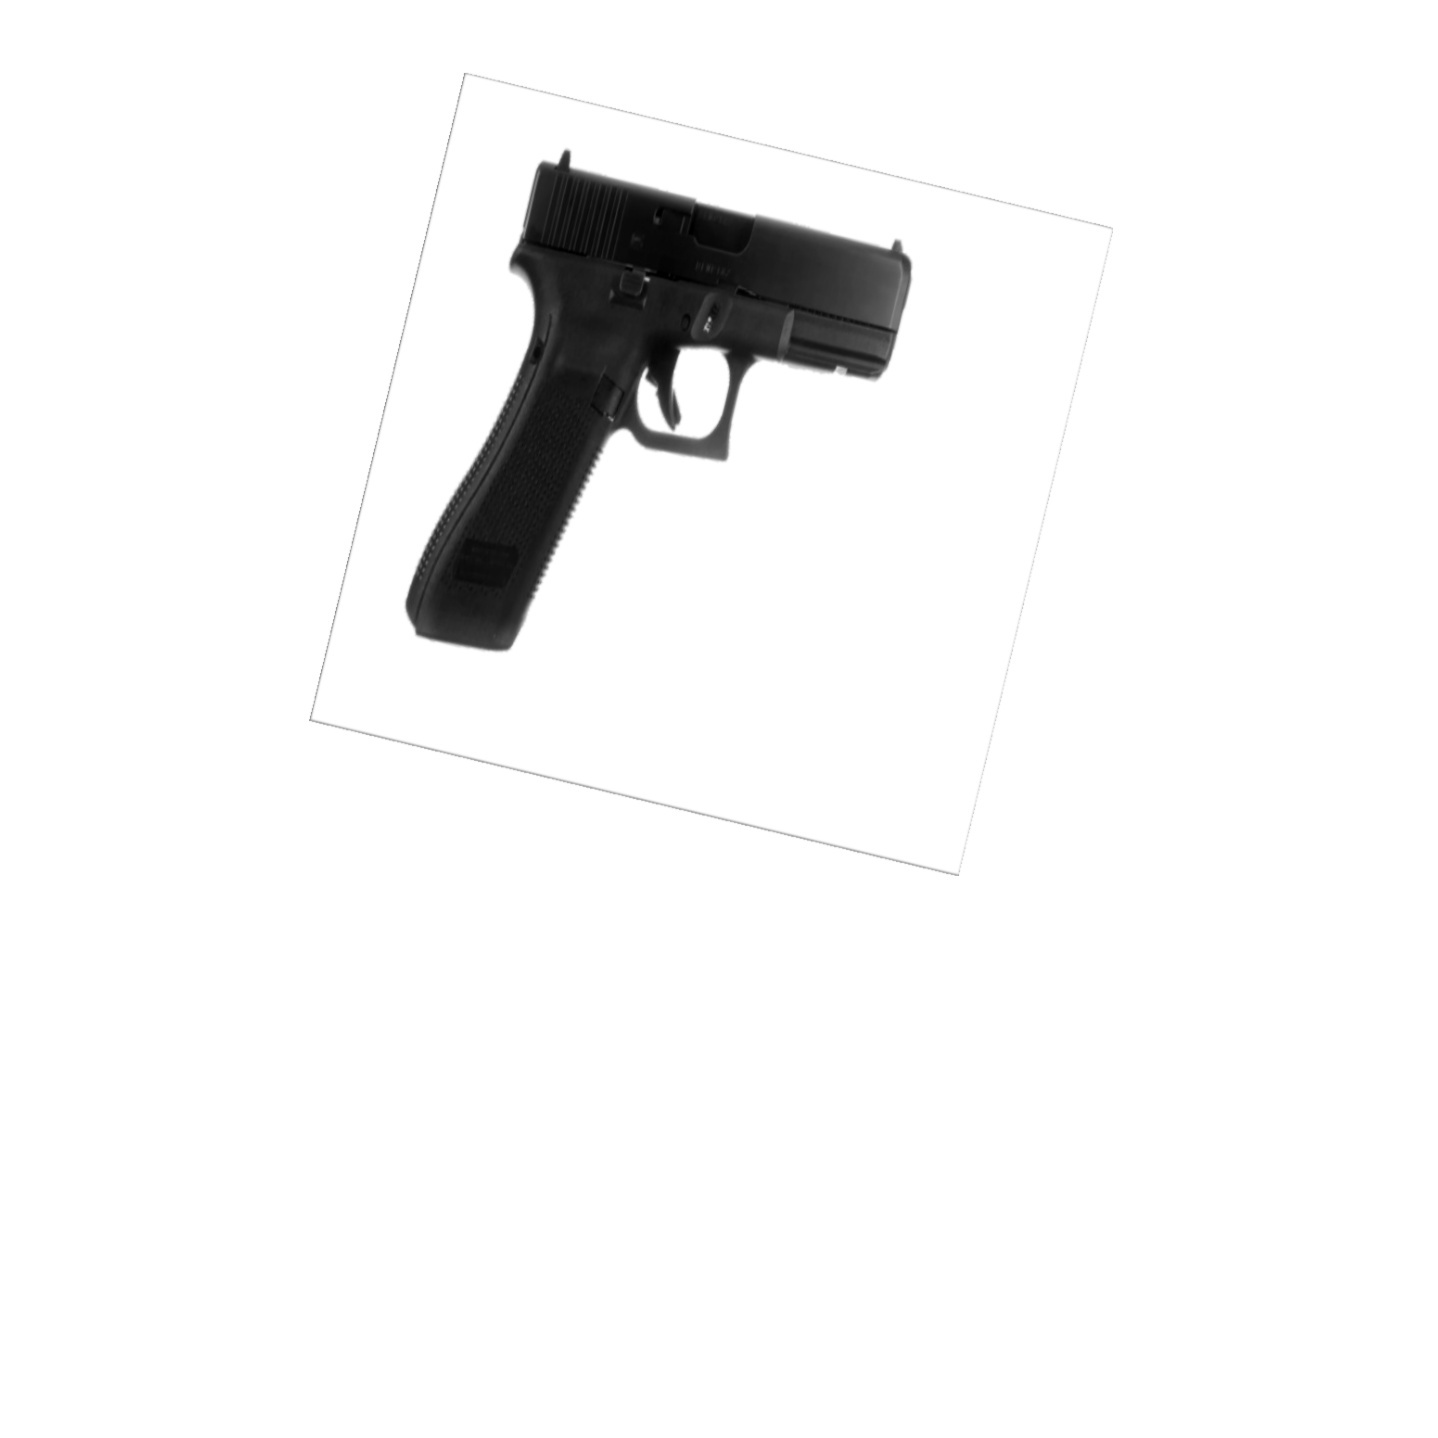gun: (406, 150, 914, 652)
